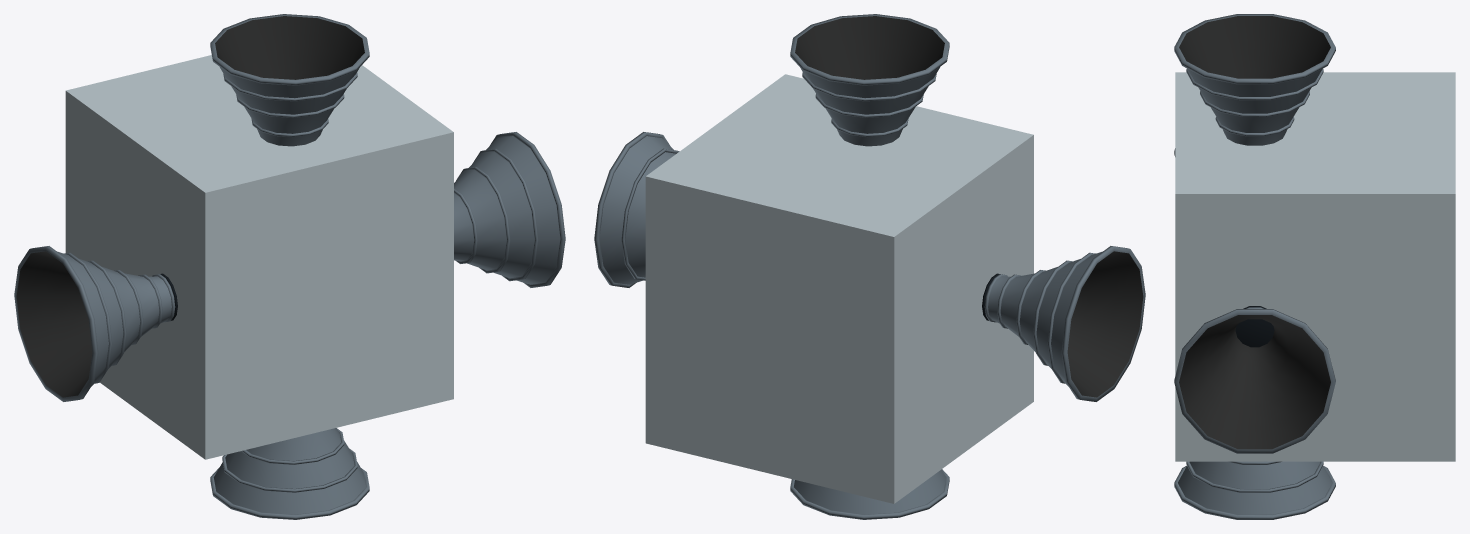
Rendered from apollo_sm.rcs_03.glb.
The picture shows the model from 3 angles, left to right: view 1: azimuth 30°, elevation 25°; view 2: azimuth 150°, elevation 25°; view 3: azimuth 270°, elevation 25°; orthographic projection.
Parts seen in each view (by area): view 1: apollo_sm.rcs_03.mesh, apollo_sm.rcs_03.nozzle_04.mesh, apollo_sm.rcs_03.nozzle_01.mesh, apollo_sm.rcs_03.nozzle_03.mesh, apollo_sm.rcs_03.nozzle_02.mesh; view 2: apollo_sm.rcs_03.mesh, apollo_sm.rcs_03.nozzle_04.mesh, apollo_sm.rcs_03.nozzle_01.mesh, apollo_sm.rcs_03.nozzle_03.mesh, apollo_sm.rcs_03.nozzle_02.mesh; view 3: apollo_sm.rcs_03.mesh, apollo_sm.rcs_03.nozzle_03.mesh, apollo_sm.rcs_03.nozzle_01.mesh, apollo_sm.rcs_03.nozzle_02.mesh.
Boxes of the visible parts, bbox=[...] form: apollo_sm.rcs_03.mesh: bbox=[65, 55, 453, 459]; apollo_sm.rcs_03.nozzle_04.mesh: bbox=[14, 246, 177, 401]; apollo_sm.rcs_03.nozzle_01.mesh: bbox=[210, 14, 369, 146]; apollo_sm.rcs_03.nozzle_03.mesh: bbox=[454, 132, 565, 287]; apollo_sm.rcs_03.nozzle_02.mesh: bbox=[210, 428, 369, 519]; apollo_sm.rcs_03.mesh: bbox=[645, 74, 1033, 503]; apollo_sm.rcs_03.nozzle_04.mesh: bbox=[982, 246, 1145, 401]; apollo_sm.rcs_03.nozzle_01.mesh: bbox=[790, 14, 949, 146]; apollo_sm.rcs_03.nozzle_03.mesh: bbox=[594, 132, 679, 287]; apollo_sm.rcs_03.nozzle_02.mesh: bbox=[790, 469, 949, 519]; apollo_sm.rcs_03.mesh: bbox=[1175, 72, 1455, 461]; apollo_sm.rcs_03.nozzle_03.mesh: bbox=[1174, 306, 1335, 453]; apollo_sm.rcs_03.nozzle_01.mesh: bbox=[1174, 14, 1335, 145]; apollo_sm.rcs_03.nozzle_02.mesh: bbox=[1174, 461, 1335, 519].
Bounding box in the file's own units: 0.72 × 0.64 × 0.3717.
